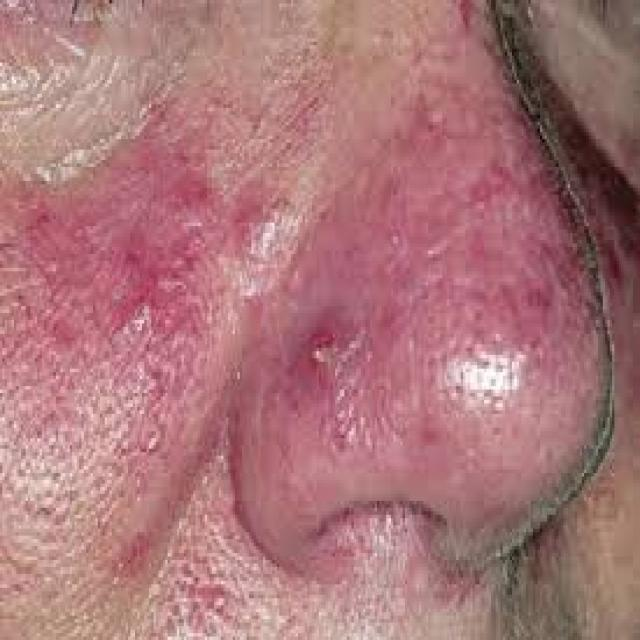Rosacea: (252, 65, 574, 468), (11, 106, 282, 425)
